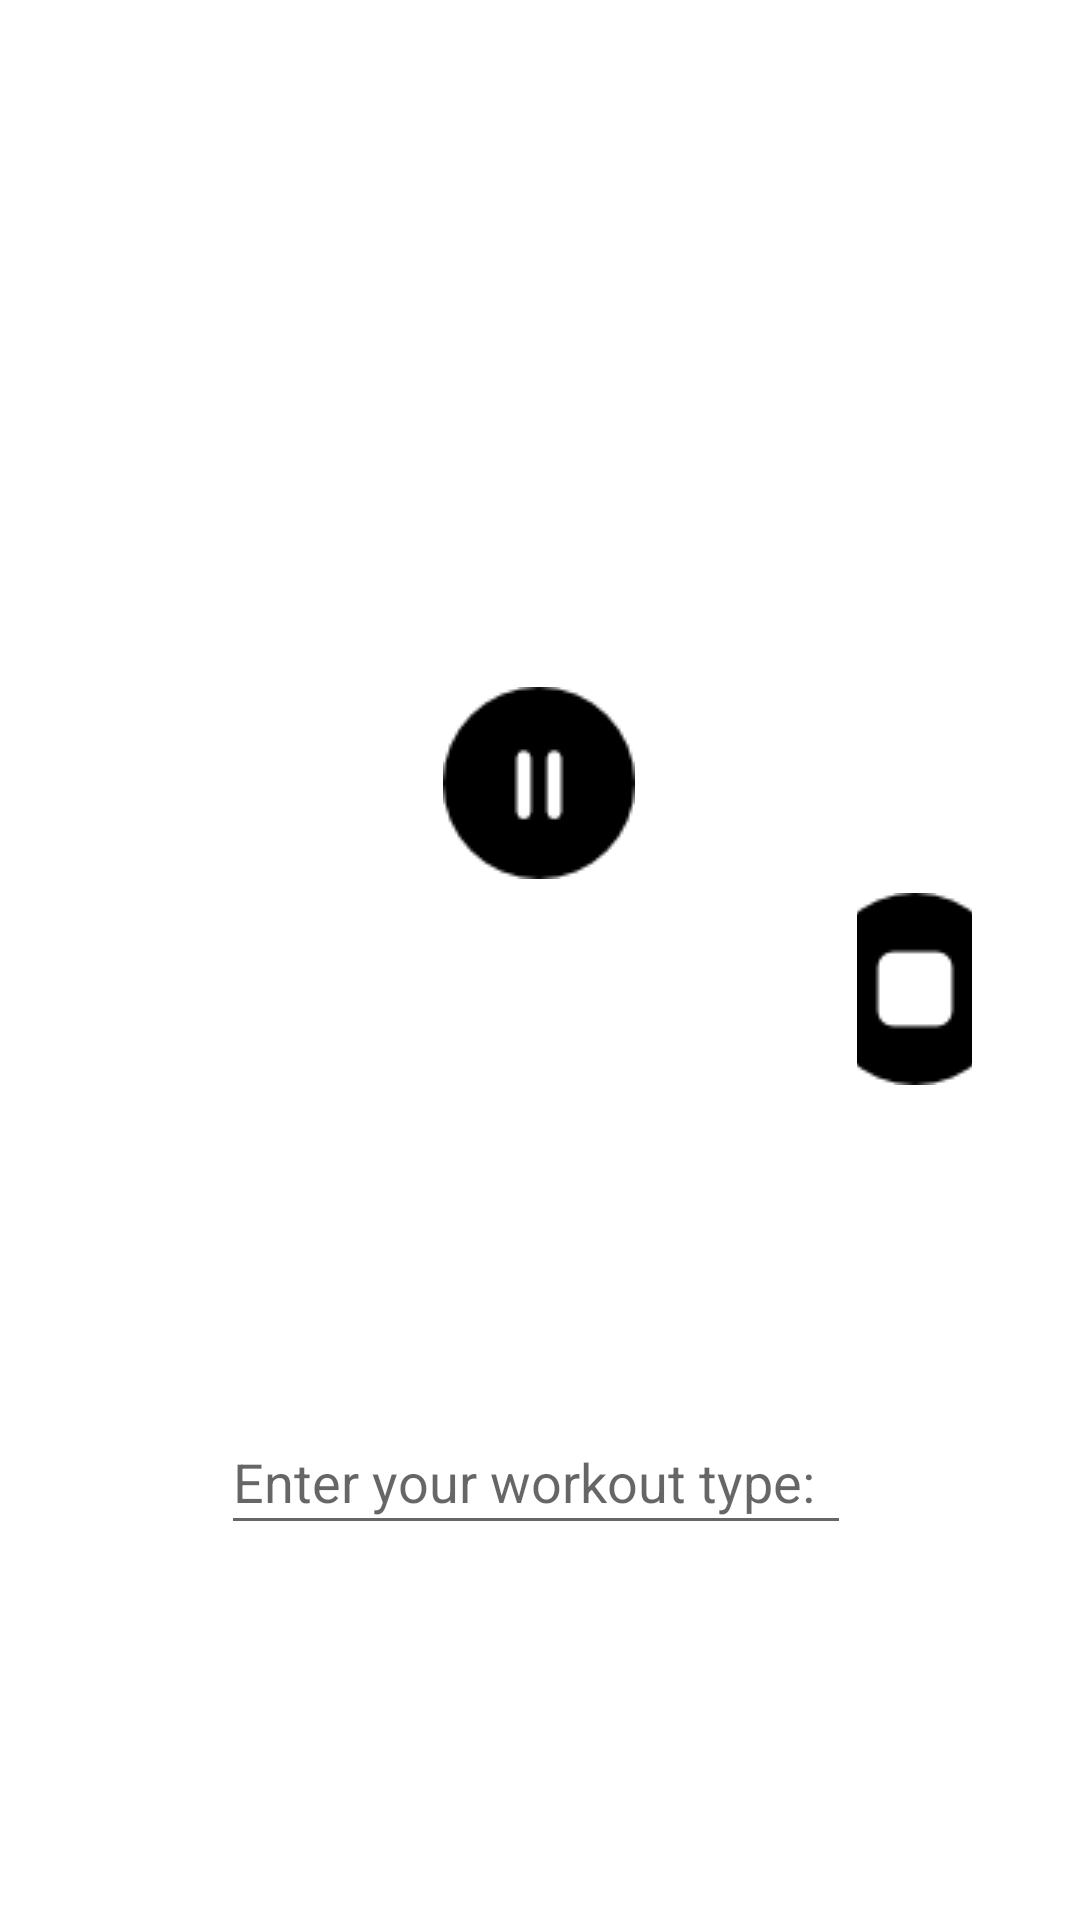

Where to tap for icons on this 1080x1920 app screen, as [x,y]:
pause: [539,783]
stop: [914,989]
